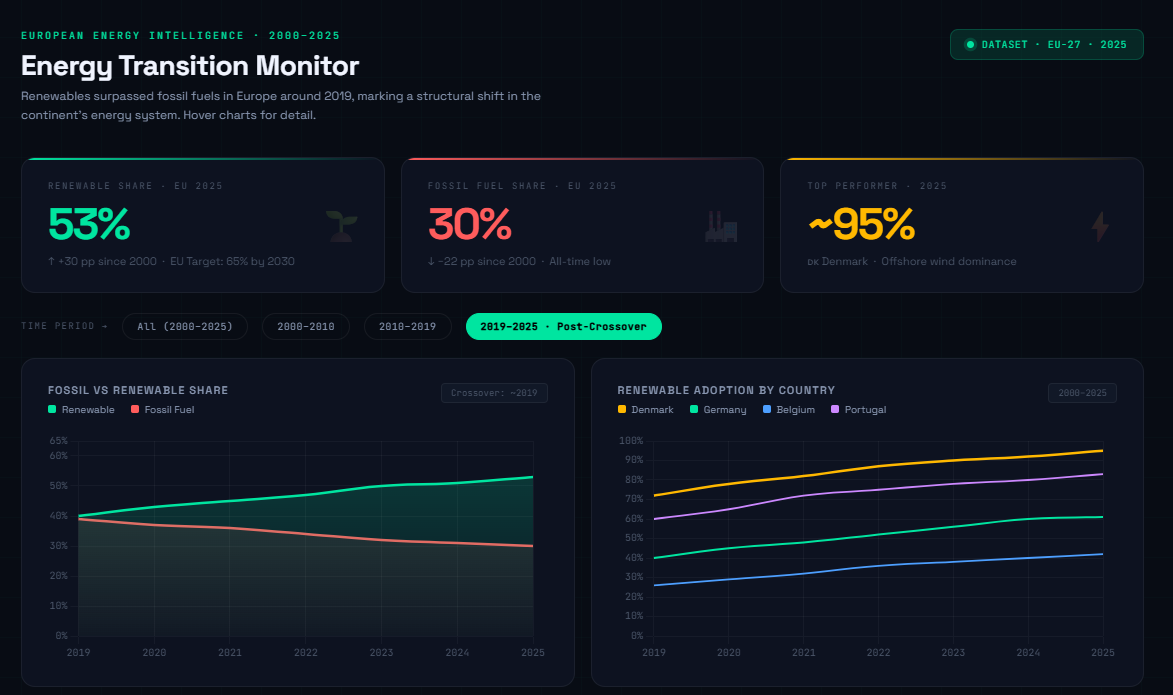

The page's visual inventory and layout, read from the dashboard file:
{"tool":"tableau","page":{"name":"Dashboard 1 - Overview","canvas":[1000,1000],"units":"permille","ordinal":0},"visuals":[{"type":"text","box":[5,9.9,990,153.8]},{"type":"worksheet","title":"🛢️ Fossil Share · EU 2025","mark":"Automatic","box":[5,163.8,330.4,131.5]},{"type":"worksheet","title":"🌱 Renewable Share · EU 2025","mark":"Text","box":[335.4,163.8,329.8,131.5]},{"type":"worksheet","title":"⚡Top Country 2025 · Denmark","mark":"Automatic","box":[665.2,163.8,329.8,131.5]},{"type":"worksheet","title":" Fossil vs Renewable (EU level)","mark":"Automatic","rows":["fossil_share","renewable_share"],"cols":["year"],"box":[5,319.3,494.7,631]},{"type":"worksheet","title":"Renewable Adoption by Country","mark":"Automatic","rows":["renewable_share"],"cols":["year"],"box":[499.7,319.3,422.9,631]},{"type":"legend","title":"Renewable Adoption by Country","param":"[federated.1tz79j81jv7rym1aqlbtq1ps4wq8].[none:area:nk]","box":[922.6,319.3,72.5,631]},{"type":"text","box":[5,950.4,990,39.7]}]}

Visuals, with their boxes on the dashboard's canvas, which has no fixed pixel size, in thousandths of its width and height (x1, y1, x2, y2). These are canvas units, not pixel positions in the 1173x695 screenshot, which may show the page scaled, cropped or inside an application window:
text: {"x1": 5, "y1": 10, "x2": 995, "y2": 164}
"🛢️ Fossil Share · EU 2025" worksheet: {"x1": 5, "y1": 164, "x2": 335, "y2": 295}
"🌱 Renewable Share · EU 2025" worksheet (Text marks): {"x1": 335, "y1": 164, "x2": 665, "y2": 295}
"⚡Top Country 2025 · Denmark" worksheet: {"x1": 665, "y1": 164, "x2": 995, "y2": 295}
" Fossil vs Renewable (EU level)" worksheet: {"x1": 5, "y1": 319, "x2": 500, "y2": 950}
"Renewable Adoption by Country" worksheet: {"x1": 500, "y1": 319, "x2": 923, "y2": 950}
"Renewable Adoption by Country" legend: {"x1": 923, "y1": 319, "x2": 995, "y2": 950}
text: {"x1": 5, "y1": 950, "x2": 995, "y2": 990}
